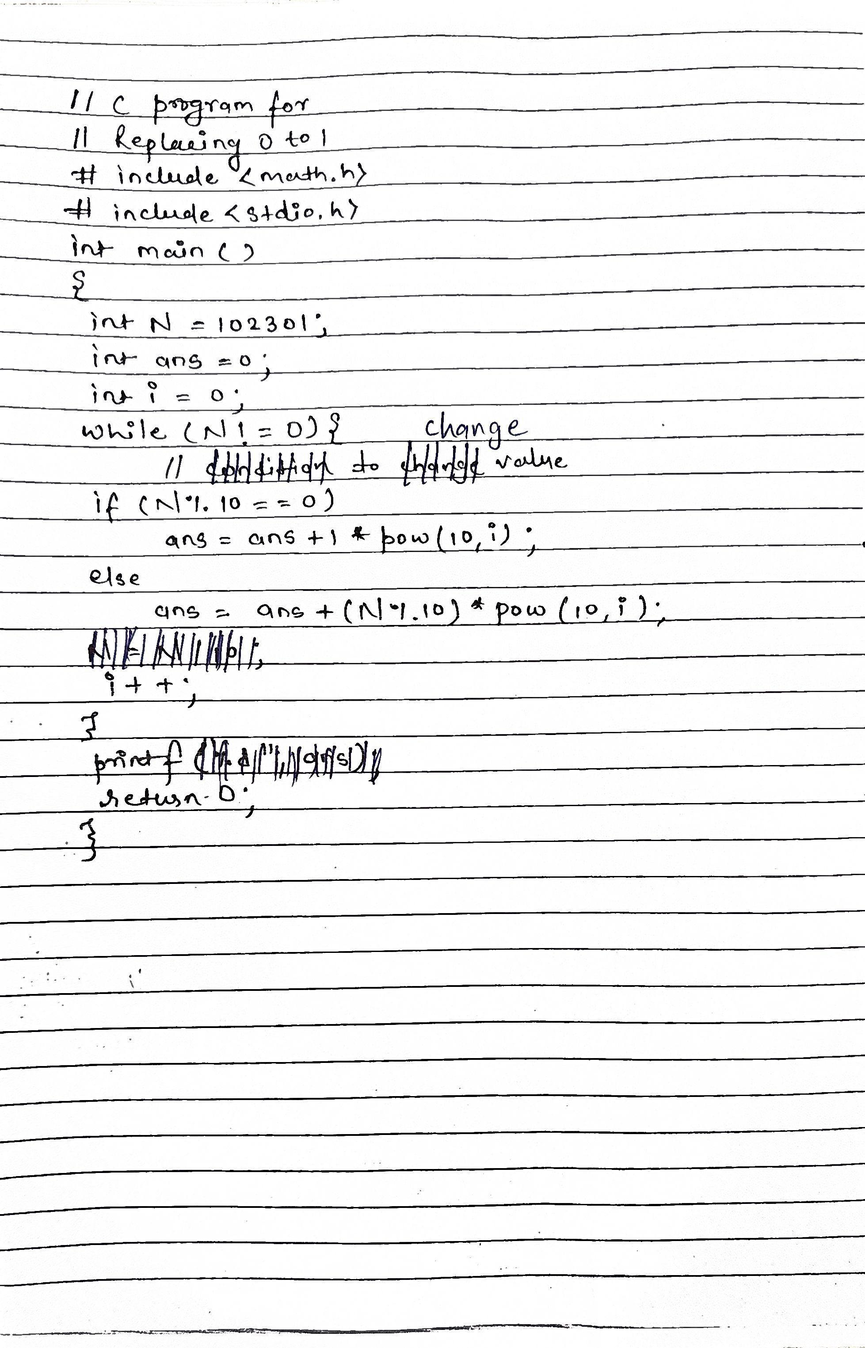cuttings: (194, 738, 385, 784), (87, 627, 257, 670), (208, 448, 328, 486), (402, 441, 479, 487)
